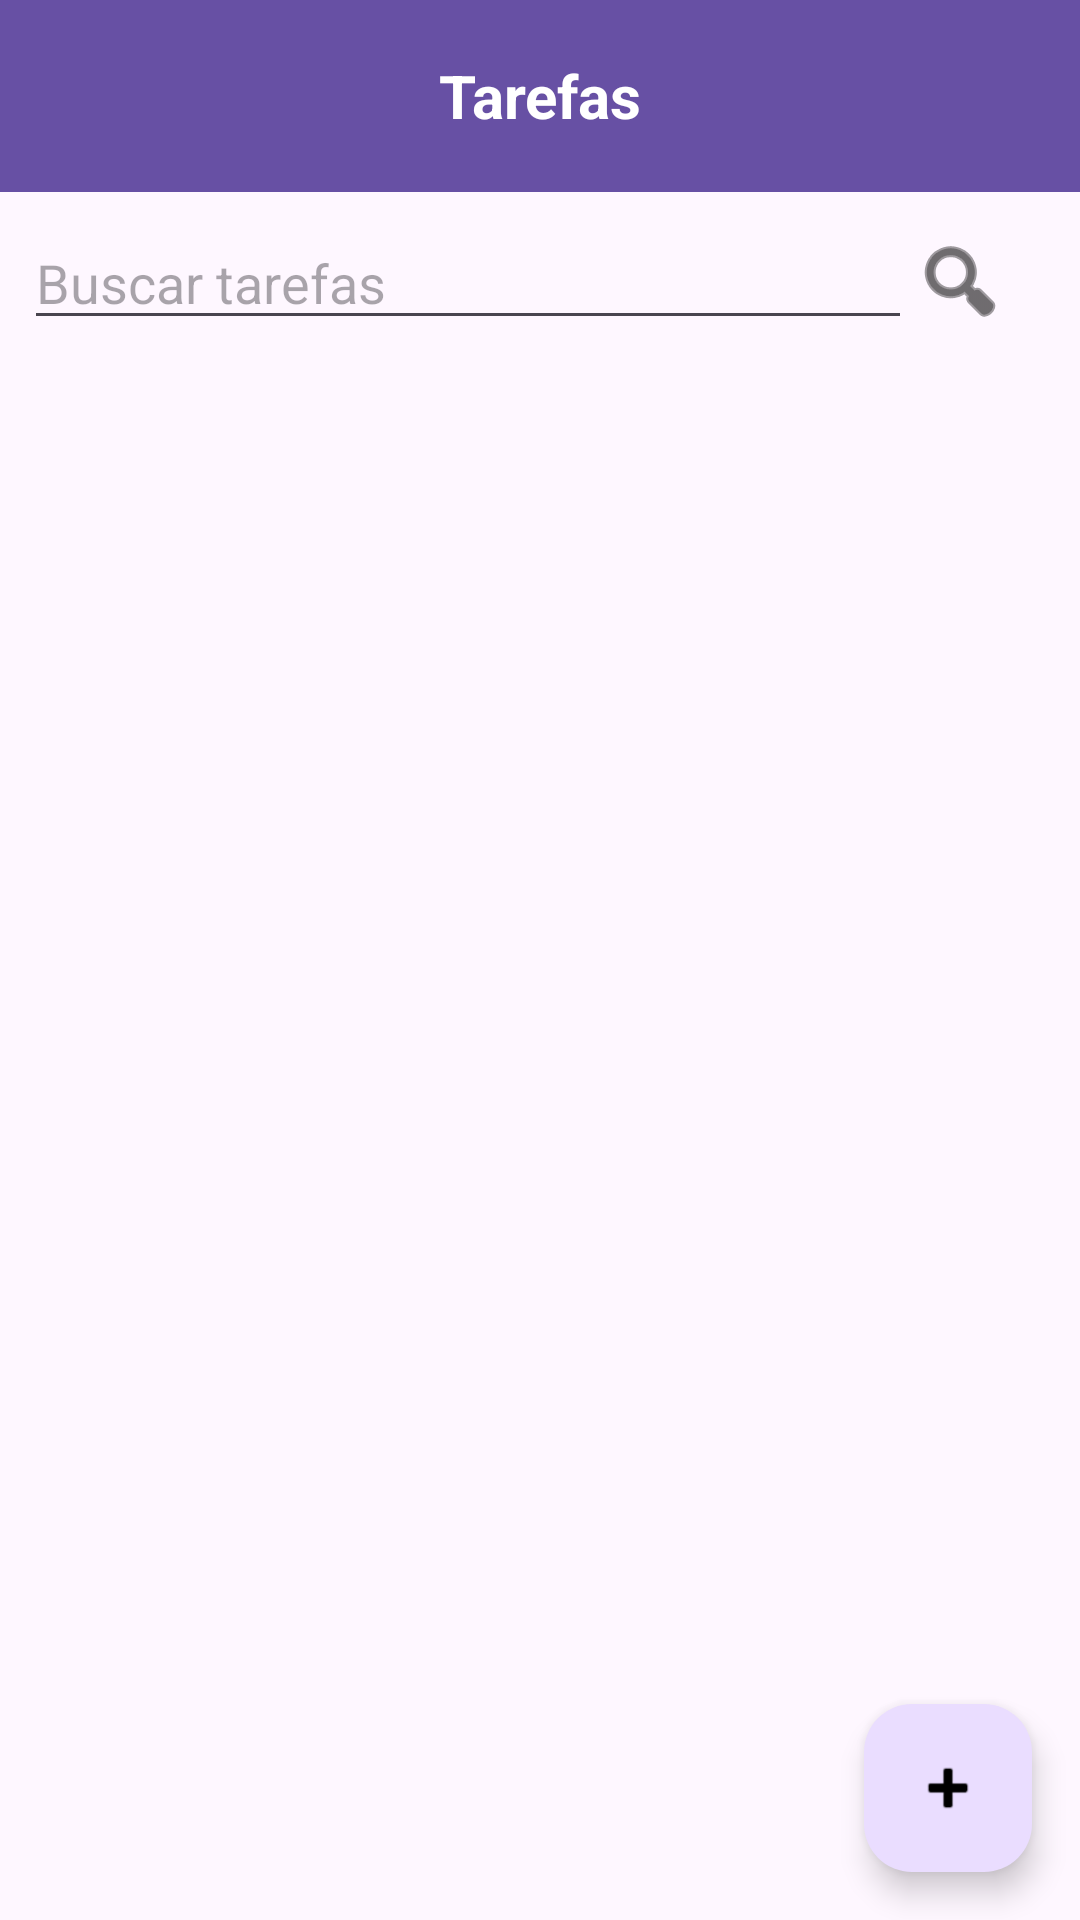

Where icons sit on this 1080x1920 app screen, as [left=x1, top=y1, right=x2, bottom=y2]:
add: [left=864, top=1704, right=1032, bottom=1872]
search: [left=924, top=246, right=996, bottom=317]
